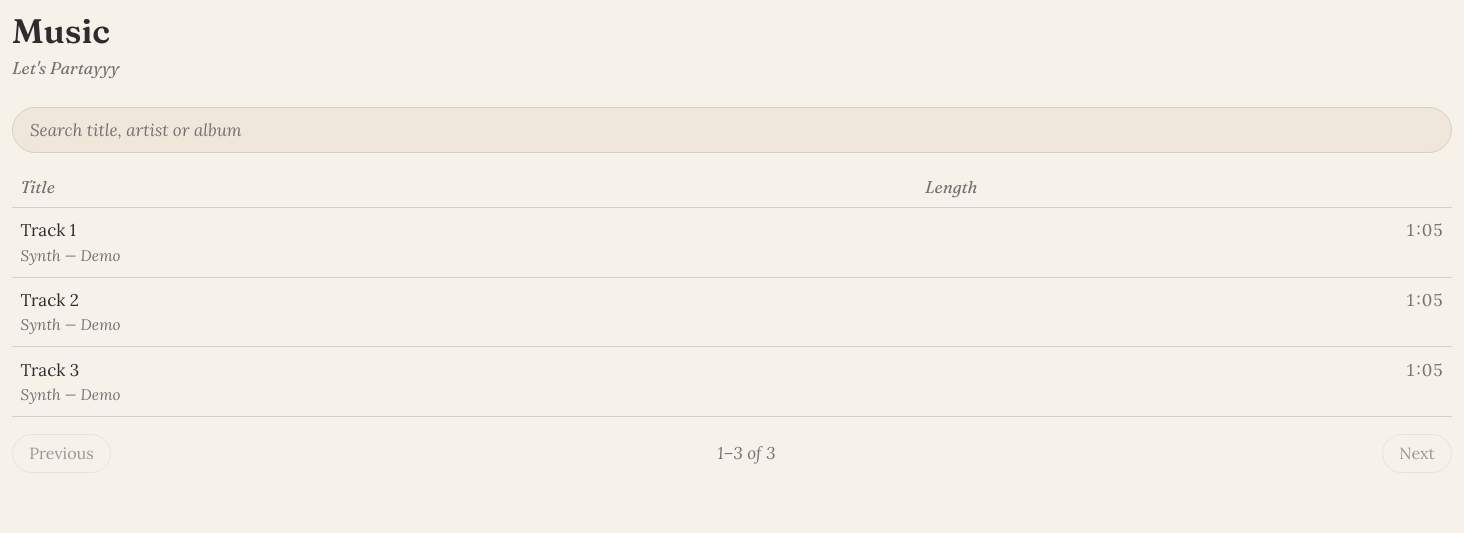
a failed request shows the error and keeps the last good page
Check: the button "Track 1" is shown, box top-left (20, 217), bottom-right (76, 244)
Type "x" into the search field at coordinates (732, 130), box top-left (12, 107), bottom-right (1452, 152)
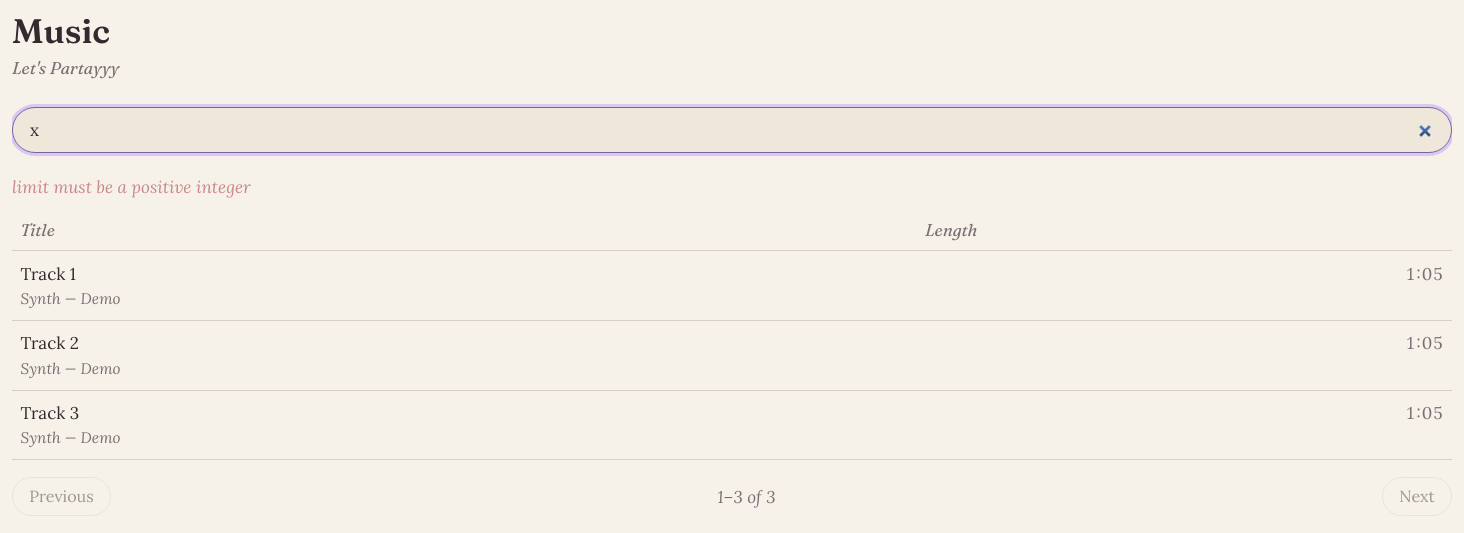
Check: the button "Track 1" is shown, box top-left (20, 261), bottom-right (76, 287)
Check: the message reads "limit must be a positive integer", box top-left (12, 176), bottom-right (251, 198)
